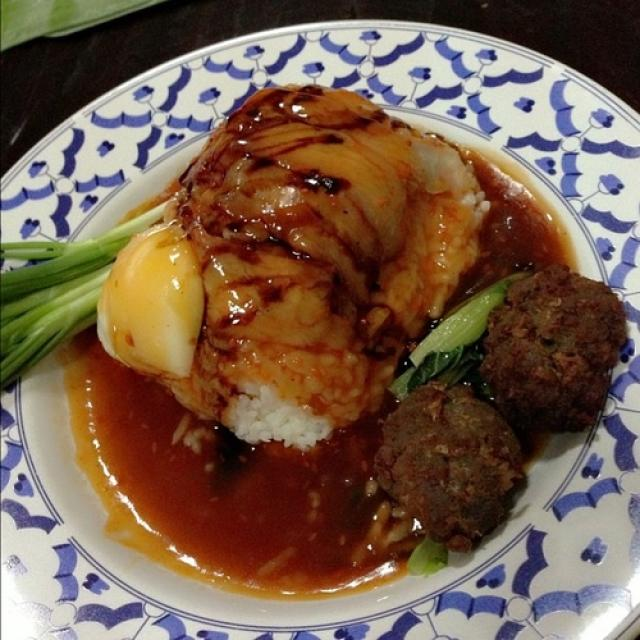猪肉菜式: (30, 32, 620, 634)
